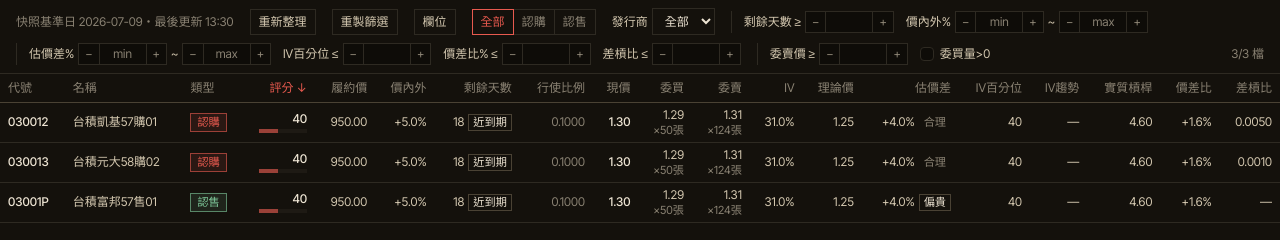
Scenario: WarrantSelector › 認售 toggle 篩選(SC-4)
The image size is (1280, 240).
Expected: the text "台積凱基57購01" is shown, [65,102,182,142]
Click the button "認售": coordinates (575, 22) [554,8,596,34]
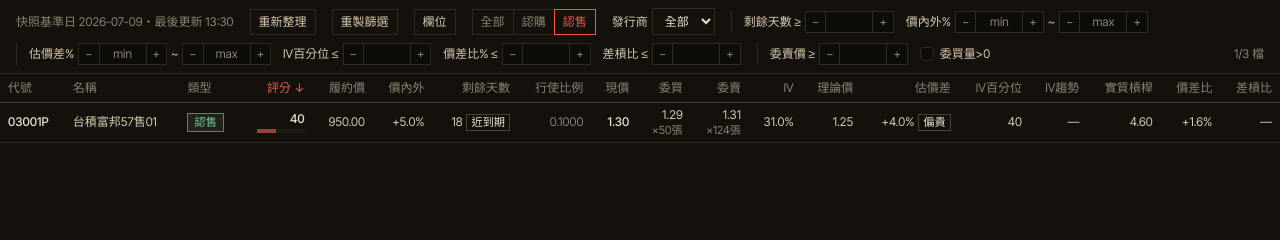
Expected: the number of rows with test id "warrant-row" is 1, [0,102,1279,142]
